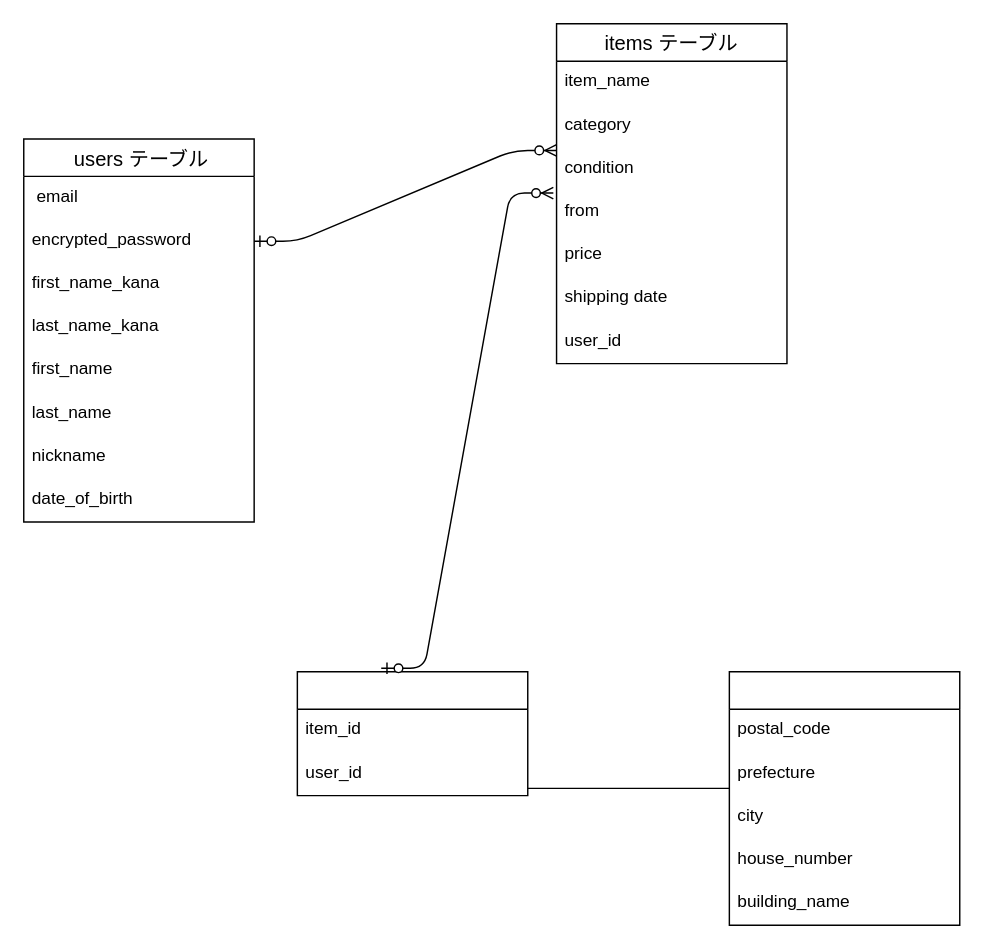
Image size: 984x949. Some labels were removed from this diagram. Here are the shapes that lost their labels. From the top down, the box of each, then its label:
(296, 670, 528, 796): buyer テーブル
(728, 670, 960, 925): addressesテーブル
